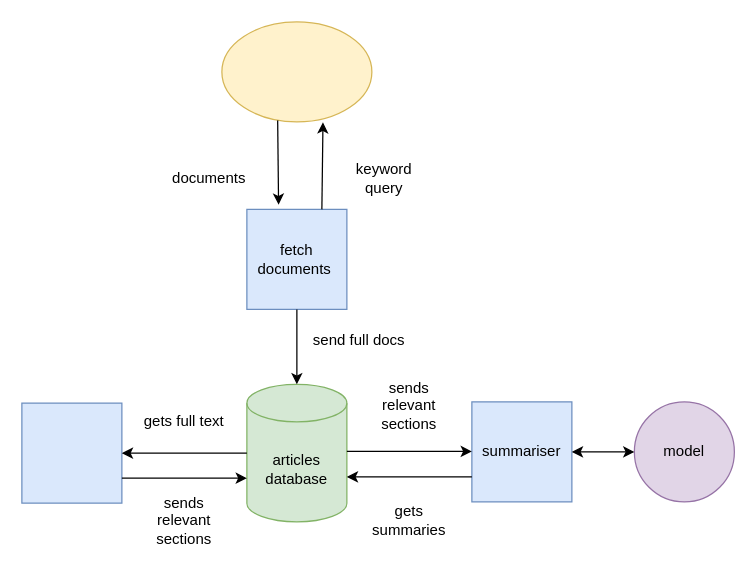
Some shapes in this 756 by 569 pixel diagram are drawn without their labels. The shapes that lost their labels are listed below. From the top down, each one's centre as x and y in pixels, then its label:
pixel 296 71: arXiv
pixel 71 452: doc parsing
